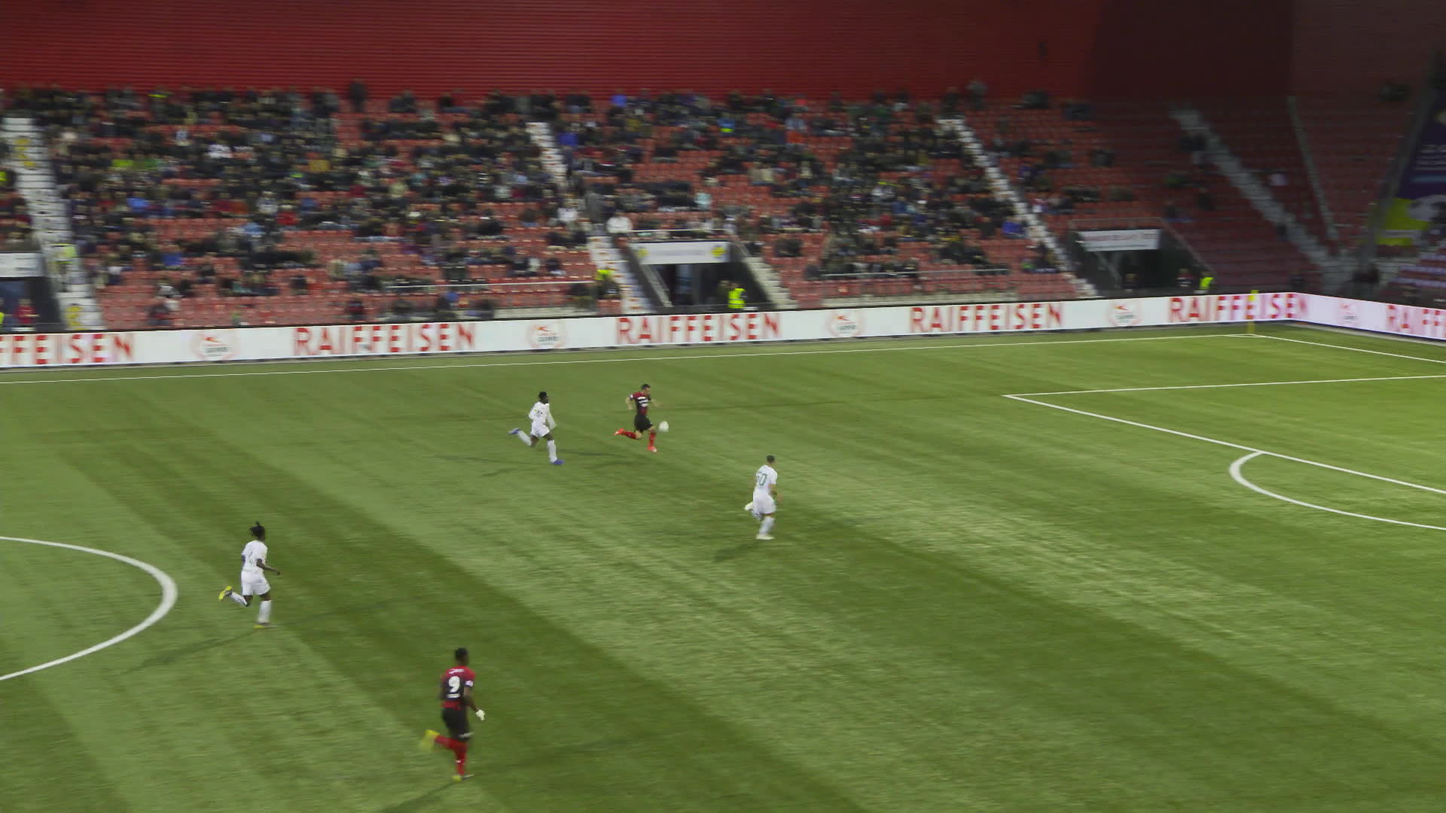ball: (658, 421, 668, 433)
player: (406, 645, 487, 784), (229, 522, 285, 633), (740, 455, 786, 543), (520, 391, 559, 465), (627, 385, 659, 458)
